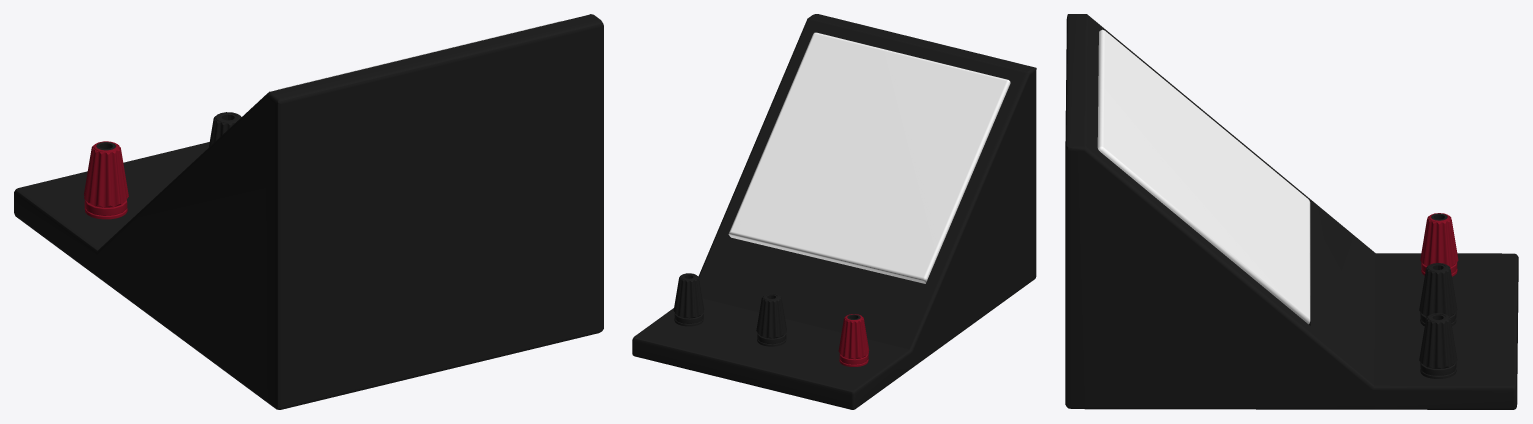
The model's file is Voltmeter_01.fbx.
3 renders of one model, left to right at view 1: azimuth 30°, elevation 25°; view 2: azimuth 150°, elevation 25°; view 3: azimuth 270°, elevation 25°, orthographic. The views are drawn at different scales.
Parts seen in each view (by area): view 1: Voltmeter; view 2: Voltmeter, Glass; view 3: Voltmeter, Glass.
Boxes of the visible parts, <box> form: Voltmeter: <box>14,14,603,409</box>; Voltmeter: <box>632,14,1036,409</box>; Glass: <box>728,32,1010,283</box>; Voltmeter: <box>1065,14,1518,409</box>; Glass: <box>1097,29,1310,324</box>.
Size of the model in its own units: 6.02 by 5.42 by 8.47.
